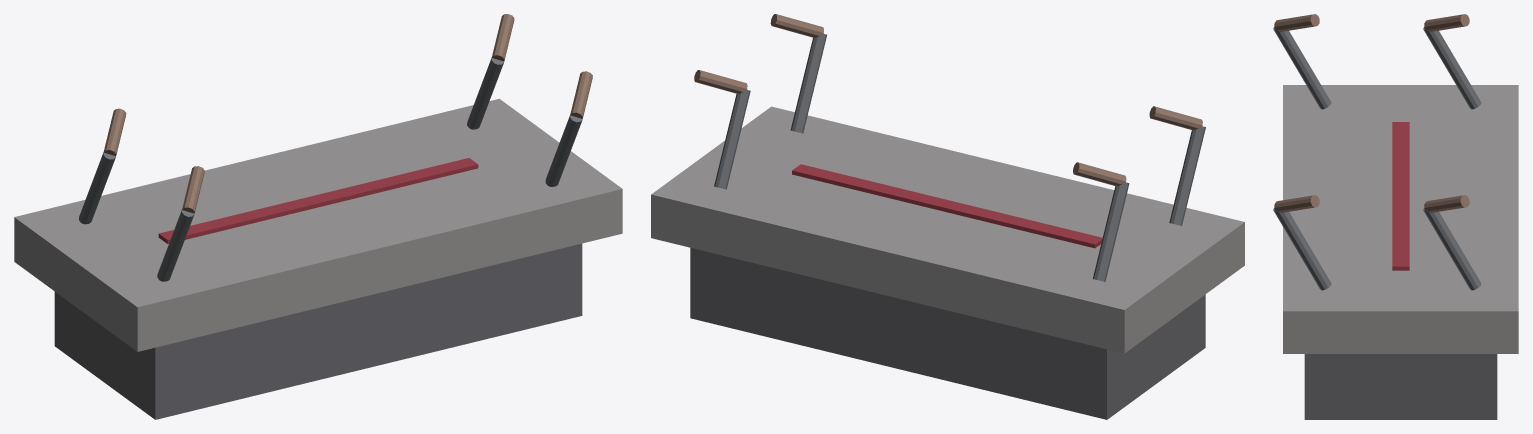
File: Sacrifice_Slab.glb
3 views of the same model, side by side, from view 1: azimuth 30°, elevation 25°; view 2: azimuth 150°, elevation 25°; view 3: azimuth 270°, elevation 25° (orthographic). The views are drawn at different scales.
Parts seen in each view (by area): view 1: Slab, Pedestal, Drain, ChainA_-1.0_0.35, ChainA_1.0_0.35, ChainA_1.0_-0.35, ChainA_-1.0_-0.35, ChainB_1.0_-0.35, ChainB_-1.0_-0.35, ChainB_-1.0_0.35, ChainB_1.0_0.35; view 2: Slab, Pedestal, Drain, ChainA_1.0_-0.35, ChainA_1.0_0.35, ChainA_-1.0_-0.35, ChainA_-1.0_0.35, ChainB_1.0_-0.35, ChainB_-1.0_-0.35, ChainB_-1.0_0.35, ChainB_1.0_0.35; view 3: Slab, Pedestal, Drain, ChainA_-1.0_-0.35, ChainA_-1.0_0.35, ChainA_1.0_-0.35, ChainA_1.0_0.35, ChainB_-1.0_-0.35, ChainB_1.0_-0.35, ChainB_-1.0_0.35, ChainB_1.0_0.35.
Boxes of the visible parts, <box> form: Slab: <box>14,98,622,351</box>; Pedestal: <box>54,243,582,419</box>; Drain: <box>158,158,478,243</box>; ChainA_-1.0_0.35: <box>157,210,194,281</box>; ChainA_1.0_0.35: <box>545,115,582,186</box>; ChainA_1.0_-0.35: <box>467,58,503,129</box>; ChainA_-1.0_-0.35: <box>79,152,115,224</box>; ChainB_1.0_-0.35: <box>491,14,514,61</box>; ChainB_-1.0_-0.35: <box>103,108,126,155</box>; ChainB_-1.0_0.35: <box>182,166,204,213</box>; ChainB_1.0_0.35: <box>570,71,592,118</box>; Slab: <box>651,106,1244,353</box>; Pedestal: <box>690,248,1205,419</box>; Drain: <box>792,164,1102,248</box>; ChainA_1.0_-0.35: <box>714,89,750,189</box>; ChainA_1.0_0.35: <box>790,33,826,133</box>; ChainA_-1.0_-0.35: <box>1093,182,1129,281</box>; ChainA_-1.0_0.35: <box>1169,126,1205,225</box>; ChainB_1.0_-0.35: <box>694,70,747,93</box>; ChainB_-1.0_-0.35: <box>1073,162,1126,186</box>; ChainB_-1.0_0.35: <box>1149,106,1202,130</box>; ChainB_1.0_0.35: <box>770,14,823,37</box>; Slab: <box>1283,85,1518,353</box>; Pedestal: <box>1304,354,1497,419</box>; Drain: <box>1392,122,1409,270</box>; ChainA_-1.0_-0.35: <box>1423,27,1481,109</box>; ChainA_-1.0_0.35: <box>1273,27,1331,109</box>; ChainA_1.0_-0.35: <box>1423,208,1481,290</box>; ChainA_1.0_0.35: <box>1273,208,1331,290</box>; ChainB_-1.0_-0.35: <box>1424,14,1469,31</box>; ChainB_1.0_-0.35: <box>1424,195,1469,212</box>; ChainB_-1.0_0.35: <box>1274,14,1319,31</box>; ChainB_1.0_0.35: <box>1274,195,1319,212</box>.
Size of the model in its own units: 2.5 by 1.18 by 1.15.
